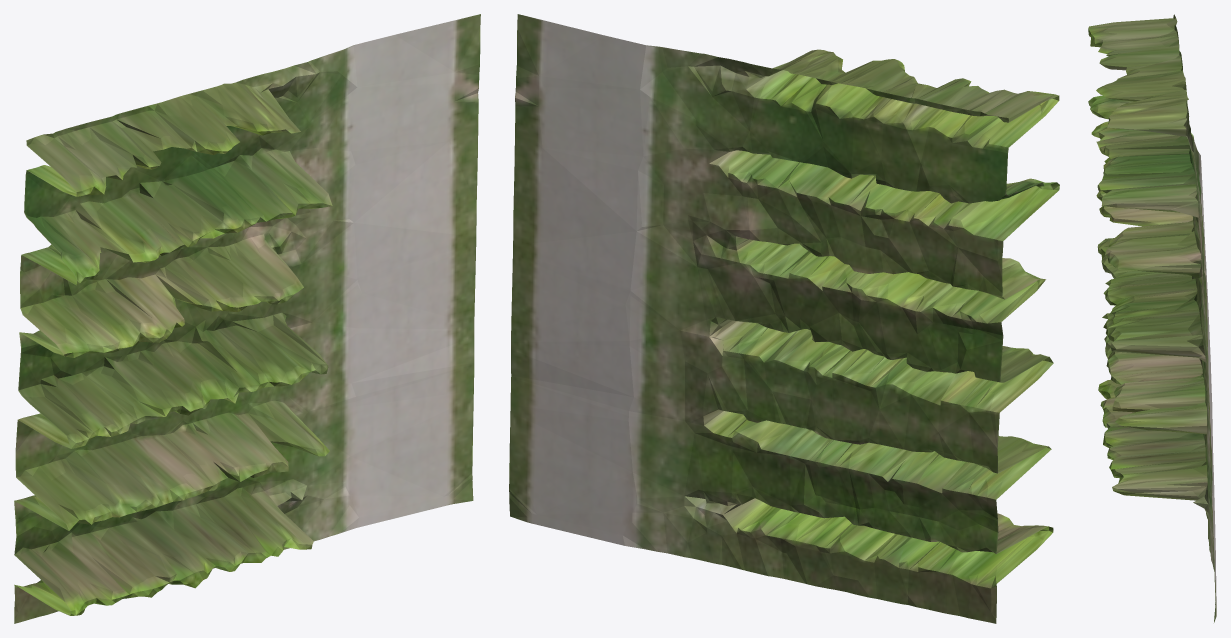
File: map_170_80.obj
3 views of the same model, side by side, from view 1: azimuth 30°, elevation 25°; view 2: azimuth 150°, elevation 25°; view 3: azimuth 270°, elevation 25° (orthographic). The views are drawn at different scales.
Visible parts, largest first — view 1: grp1; view 2: grp1; view 3: grp1.
Part boxes in pixels (x1,y1,x2,y2): grp1: (14, 14, 480, 623); grp1: (509, 14, 1059, 623); grp1: (1088, 14, 1216, 622).
Bounding box in the file's own units: 10 × 10 × 2.8.
1 material, 1 textured.
